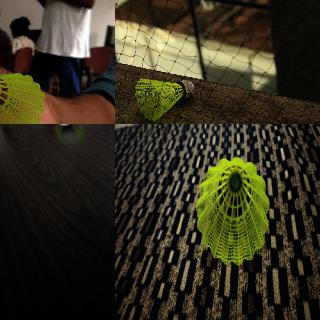shuttlecock: (194, 156, 270, 264), (134, 78, 193, 120), (0, 70, 43, 123)
